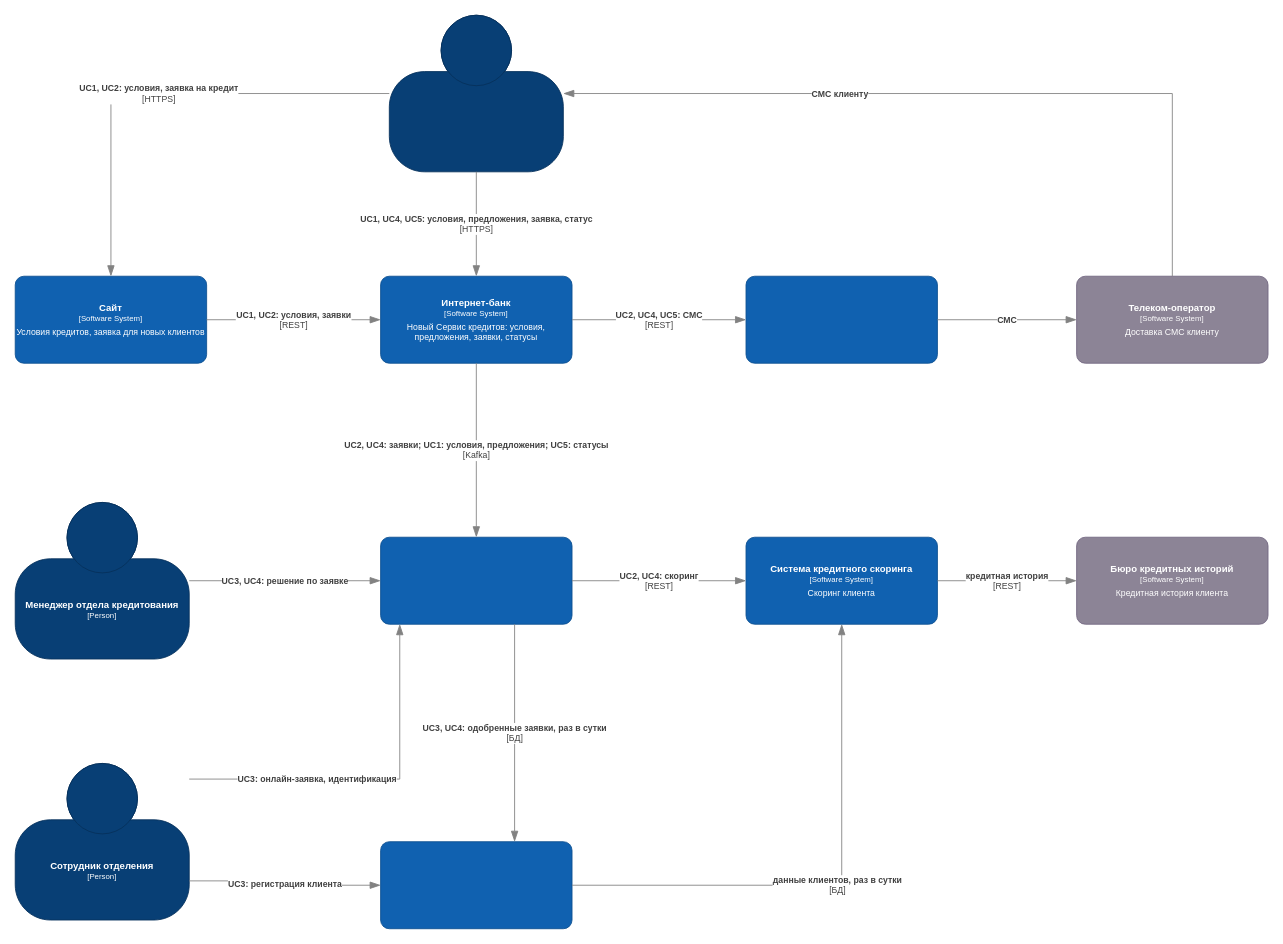
Some shapes in this 1283 by 944 pixel diagram are drawn without their labels. Each missing label, with the centre of its shape:
АБС [Software System] Клиенты, счета, выдача кредита: [476,885]
Клиент [Person]: [475,93]
Кредитный конвейер [Software System] Условия кредитов, обработка заявок: [476,580]
СМС-шлюз [Software System] Отправка СМС через телеком-оператора: [841,319]
